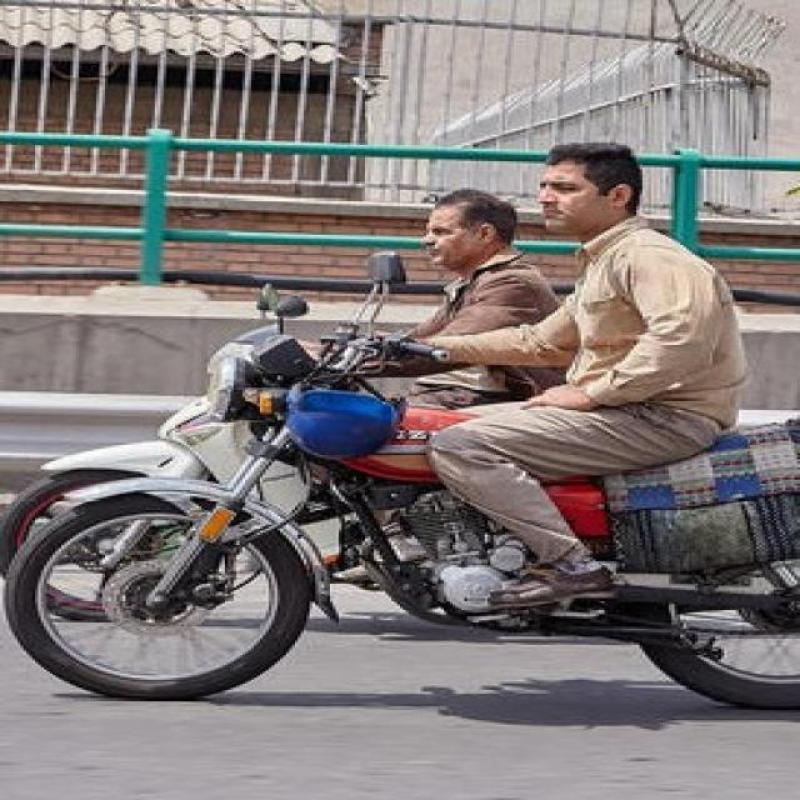nohelmet: (515, 135, 651, 240), (391, 179, 510, 275)
